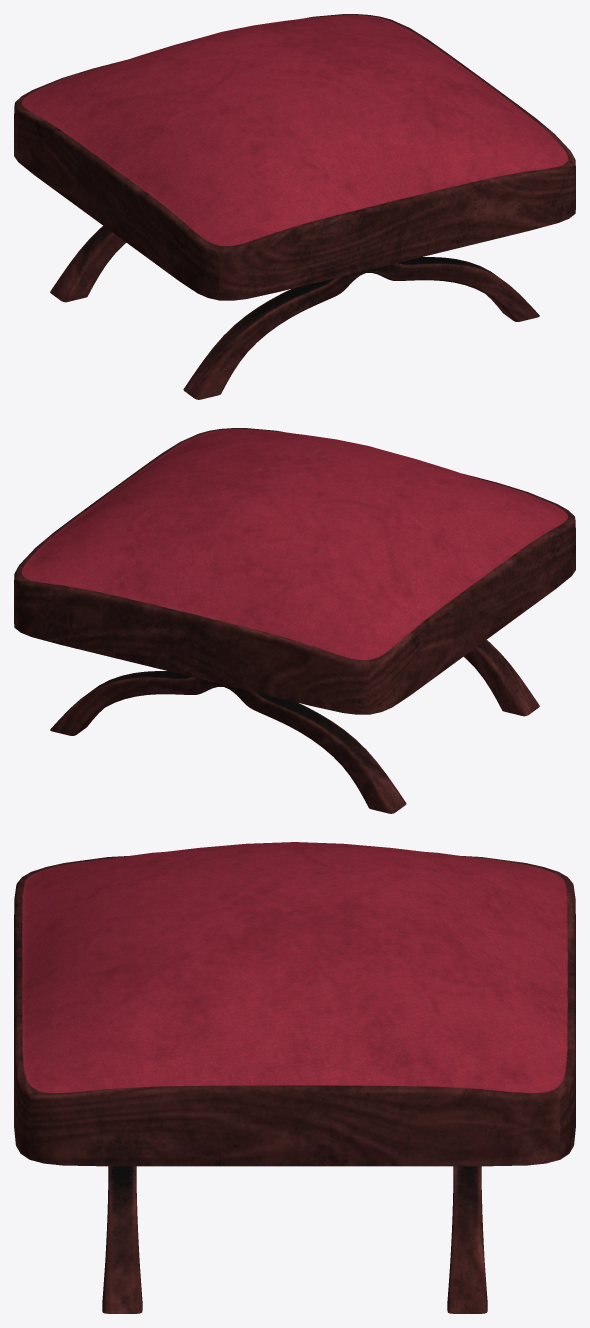
File: pouf10.glb
The picture shows the model from 3 angles, top to bottom: view 1: azimuth 30°, elevation 25°; view 2: azimuth 150°, elevation 25°; view 3: azimuth 270°, elevation 25°; orthographic projection. The views are drawn at different scales.
Parts seen in each view (by area): view 1: Pouf; view 2: Pouf; view 3: Pouf.
Boxes of the visible parts, x1=… form: Pouf: x1=14, y1=14, x2=575, y2=399; Pouf: x1=14, y1=428, x2=575, y2=813; Pouf: x1=14, y1=842, x2=575, y2=1313.
Size of the model in its own units: 0.7303 by 0.4483 by 0.7288.
1 material, 1 textured.
